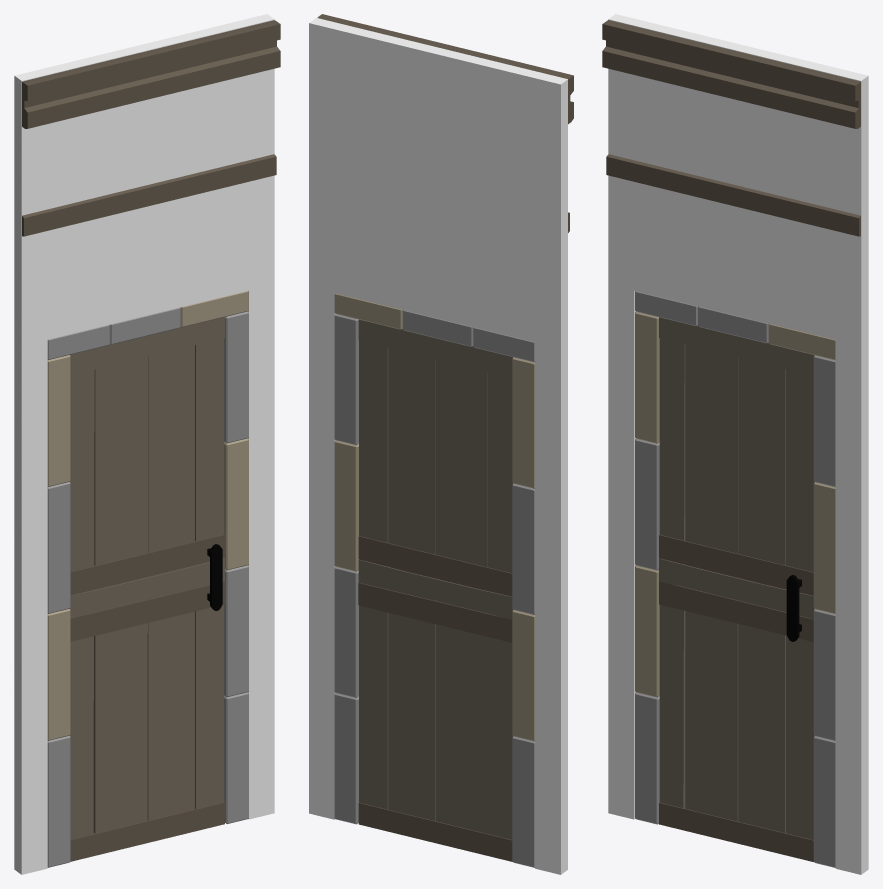
File: DOOR_02_1.fbx
3 renders of one model, left to right at view 1: azimuth 30°, elevation 25°; view 2: azimuth 150°, elevation 25°; view 3: azimuth 330°, elevation 25°, orthographic.
Parts seen in each view (by area): view 1: DOOR_02_1; view 2: DOOR_02_1; view 3: DOOR_02_1.
Part boxes in pixels (x1,y1,x2,y2): DOOR_02_1: (14, 14, 280, 874); DOOR_02_1: (309, 14, 573, 874); DOOR_02_1: (602, 14, 868, 874).
Size of the model in its own units: 100 by 300 by 8.99.
